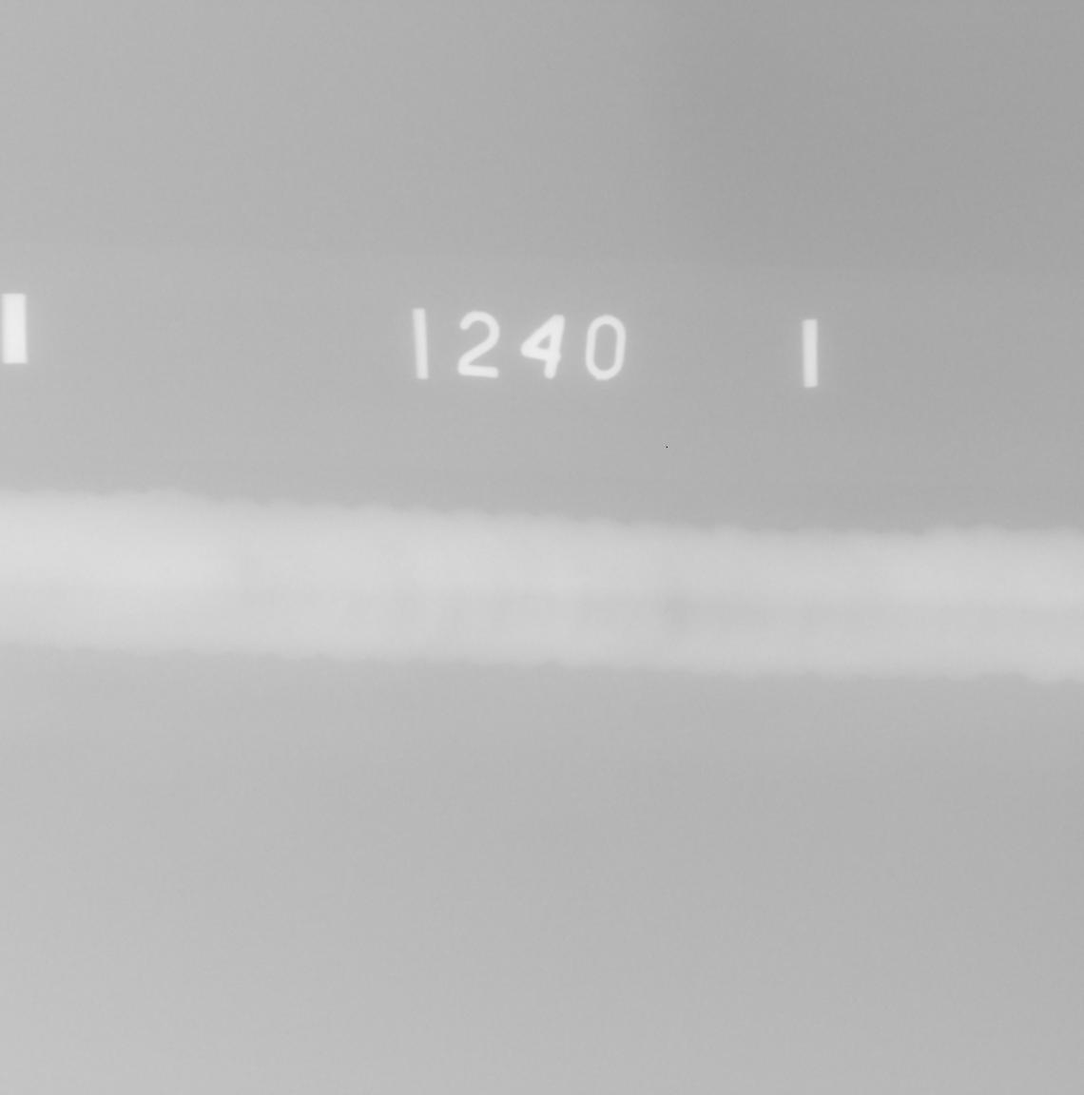Pore/Porosity: (665, 606, 669, 614), (164, 568, 169, 571)
